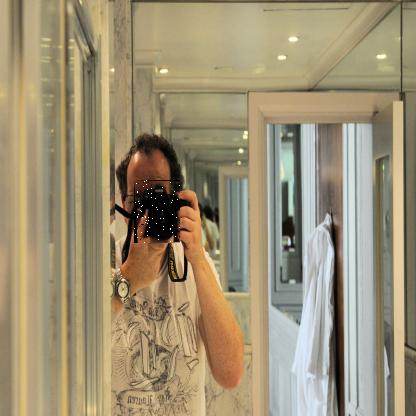Camera: (135, 182, 182, 246)
